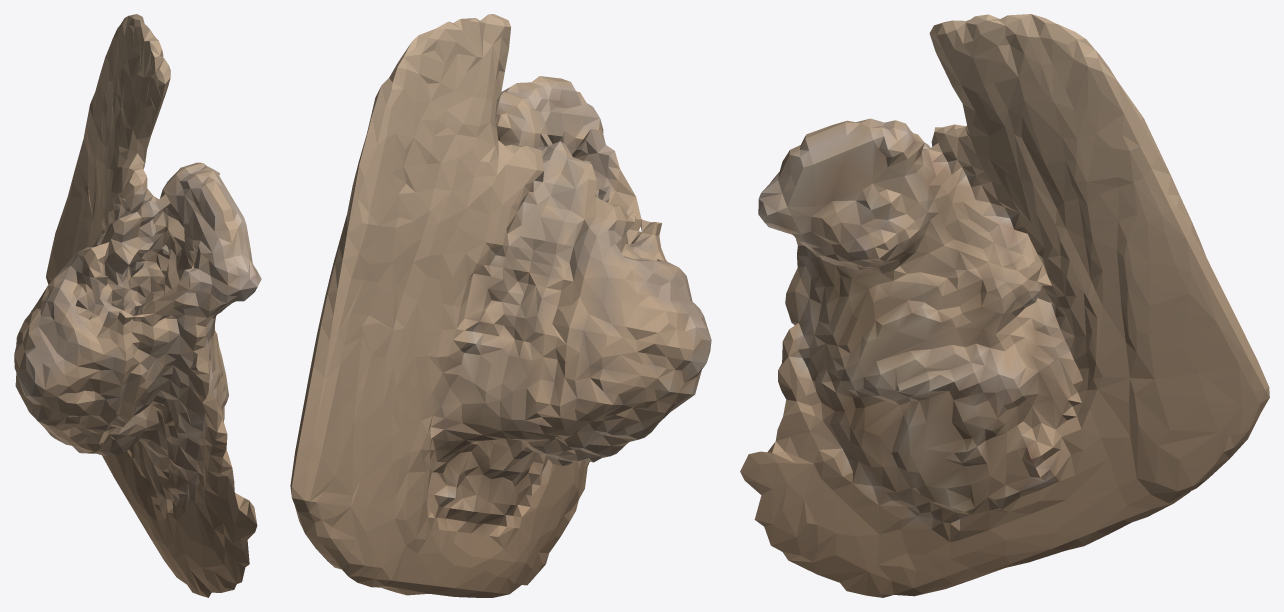
Rendered from loris.glb.
3 views of the same model, side by side, from view 1: azimuth 30°, elevation 25°; view 2: azimuth 150°, elevation 25°; view 3: azimuth 270°, elevation 25° (orthographic). The views are drawn at different scales.
Visible parts, largest first — view 1: world; view 2: world; view 3: world.
Boxes of the visible parts, x1,y1,x2,y2 form: world: (14, 14, 261, 597); world: (290, 14, 711, 597); world: (740, 14, 1269, 597).
Size of the model in its own units: 0.1815 by 0.45 by 0.3655.
